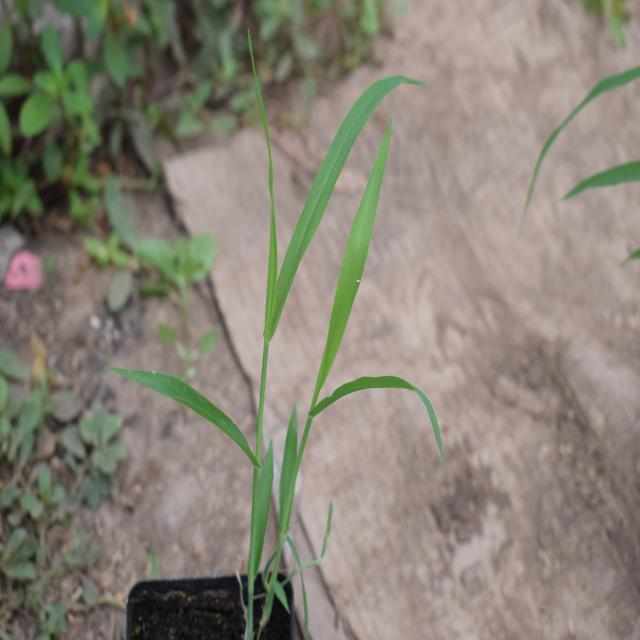crabgrass: (173, 54, 430, 556)
